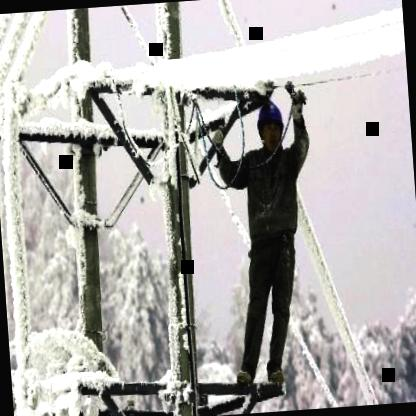helmet: (255, 94, 289, 153)
